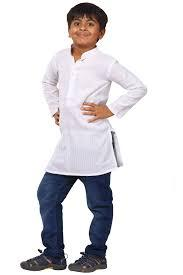Human: (23, 5, 148, 275)
